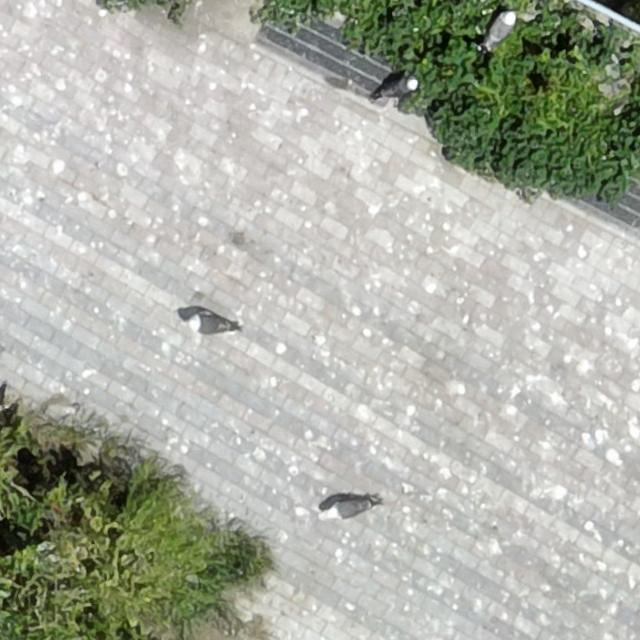umineko: (376, 74, 418, 104), (487, 13, 516, 46), (326, 501, 366, 519), (189, 314, 225, 332)
